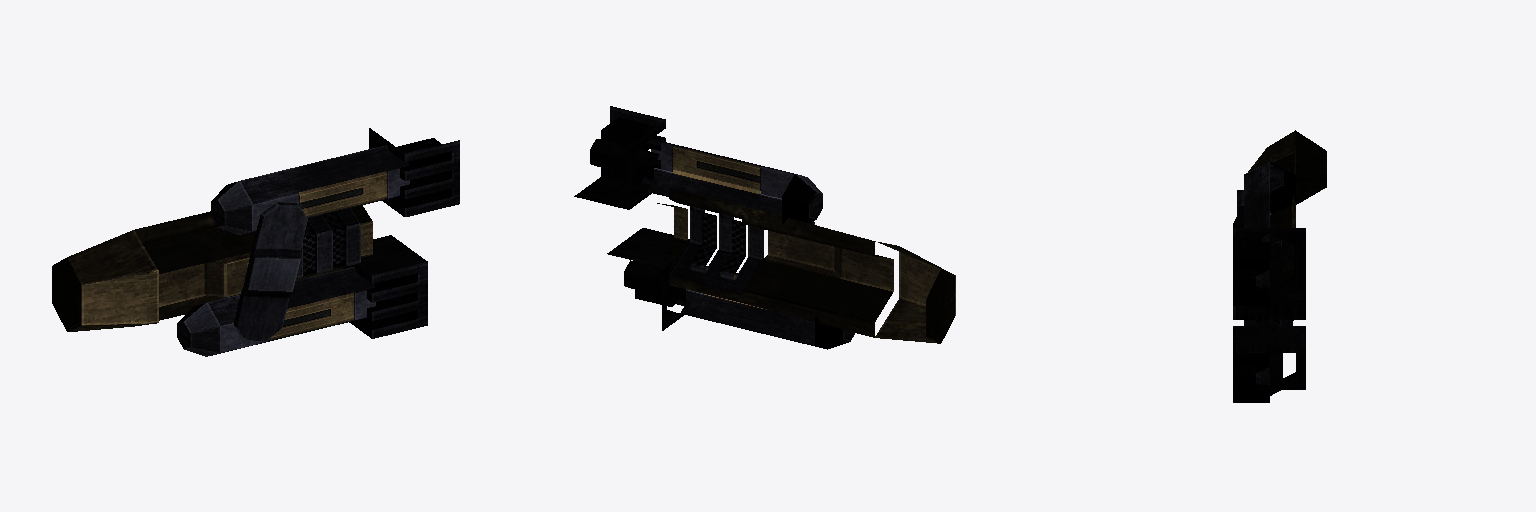
3 renders of one model, left to right at view 1: azimuth 30°, elevation 25°; view 2: azimuth 150°, elevation 25°; view 3: azimuth 270°, elevation 25°, orthographic.
Bounding box in the file's own units: 27.08 × 12.7 × 6.03.
Materials: 1 (1 with a texture image).